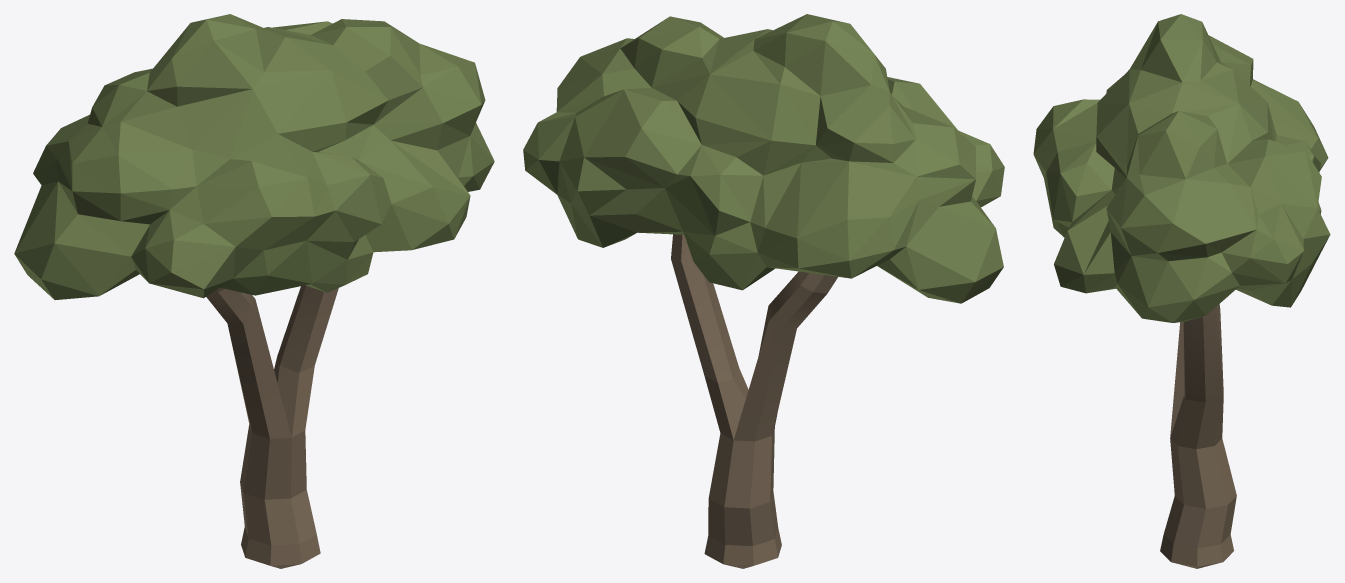
Rendered from SM_Tree_Round_02.fbx.
3 renders of one model, left to right at view 1: azimuth 30°, elevation 25°; view 2: azimuth 150°, elevation 25°; view 3: azimuth 270°, elevation 25°, orthographic. The views are drawn at different scales.
Parts seen in each view (by area): view 1: SM_Tree_Round_02; view 2: SM_Tree_Round_02; view 3: SM_Tree_Round_02.
Part boxes in pixels (<box>): SM_Tree_Round_02: <box>14,14,494,568</box>; SM_Tree_Round_02: <box>523,14,1004,568</box>; SM_Tree_Round_02: <box>1033,14,1330,568</box>.
Size of the model in its own units: 152 by 186 by 96.71.
1 material, 1 textured.
